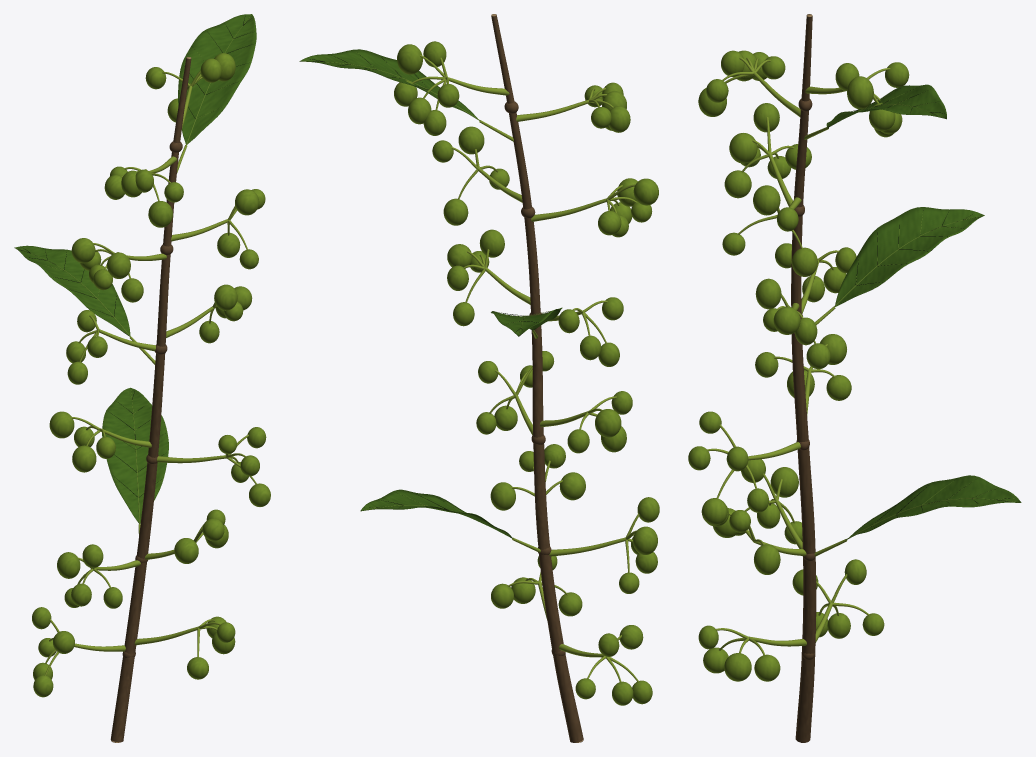
Rendered from puer-dish-original.glb.
3 renders of one model, left to right at view 1: azimuth 30°, elevation 25°; view 2: azimuth 150°, elevation 25°; view 3: azimuth 270°, elevation 25°, orthographic. The views are drawn at different scales.
Visible parts, largest first — view 1: puer-dish; view 2: puer-dish; view 3: puer-dish.
Boxes of the visible parts, box(x1,y1,x2,y2) form: puer-dish: box(14, 14, 270, 742); puer-dish: box(299, 14, 659, 742); puer-dish: box(688, 14, 1021, 742).
Bounding box in the file's own units: 0.106 × 0.2456 × 0.0968.
Materials: 6 (6 with a texture image).
